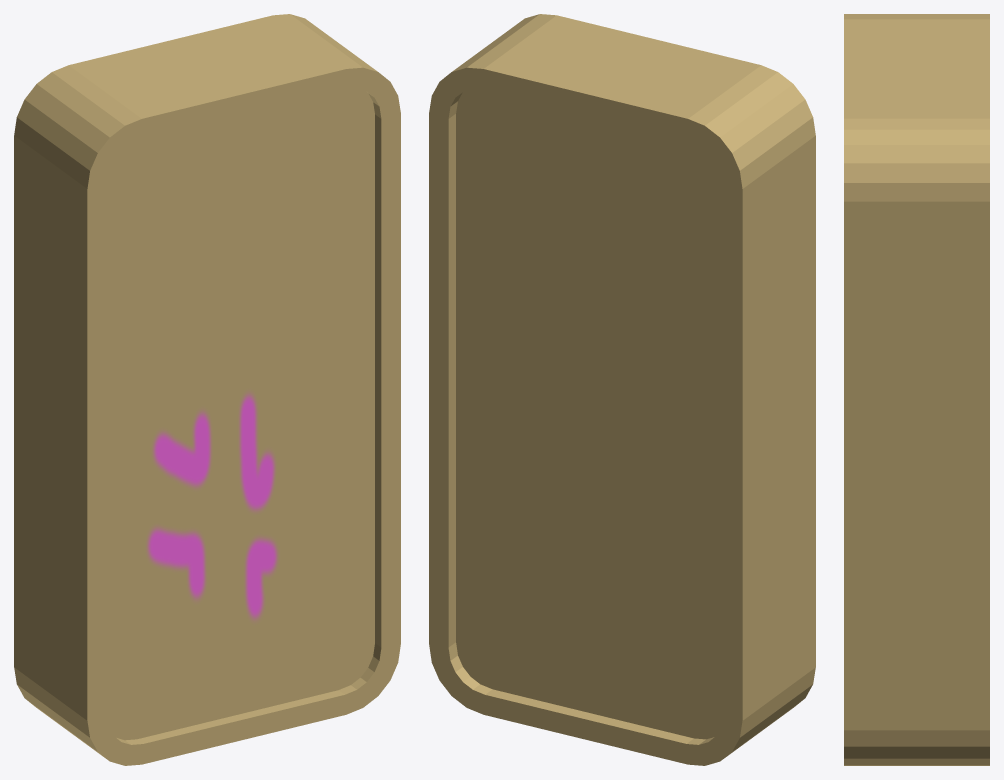
Rendered from domino.glb.
3 renders of one model, left to right at view 1: azimuth 30°, elevation 25°; view 2: azimuth 150°, elevation 25°; view 3: azimuth 270°, elevation 25°, orthographic.
Parts seen in each view (by area): view 1: Cube; view 2: Cube; view 3: Cube.
Part boxes in pixels (bbox=[...]): Cube: bbox=[14, 14, 400, 765]; Cube: bbox=[429, 14, 815, 765]; Cube: bbox=[844, 14, 989, 765].
Bounding box in the file's own units: 1.02 × 2 × 0.4118.
Materials: 1 (1 with a texture image).
